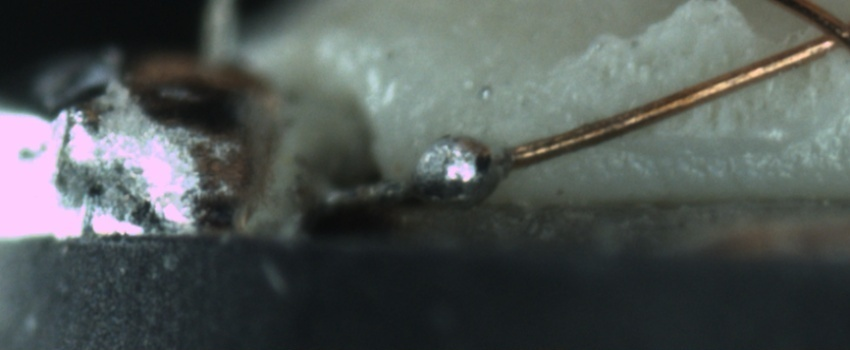CL: (797, 3, 850, 61)
DL: (590, 111, 803, 169)
TB: (394, 126, 504, 211)
TTCW: (326, 130, 570, 216)
